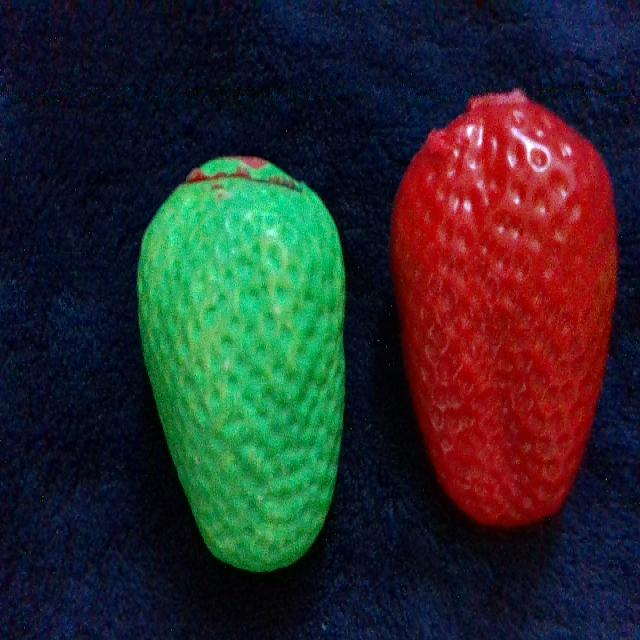grande_roja: (392, 92, 615, 524)
verde: (138, 156, 345, 571)
